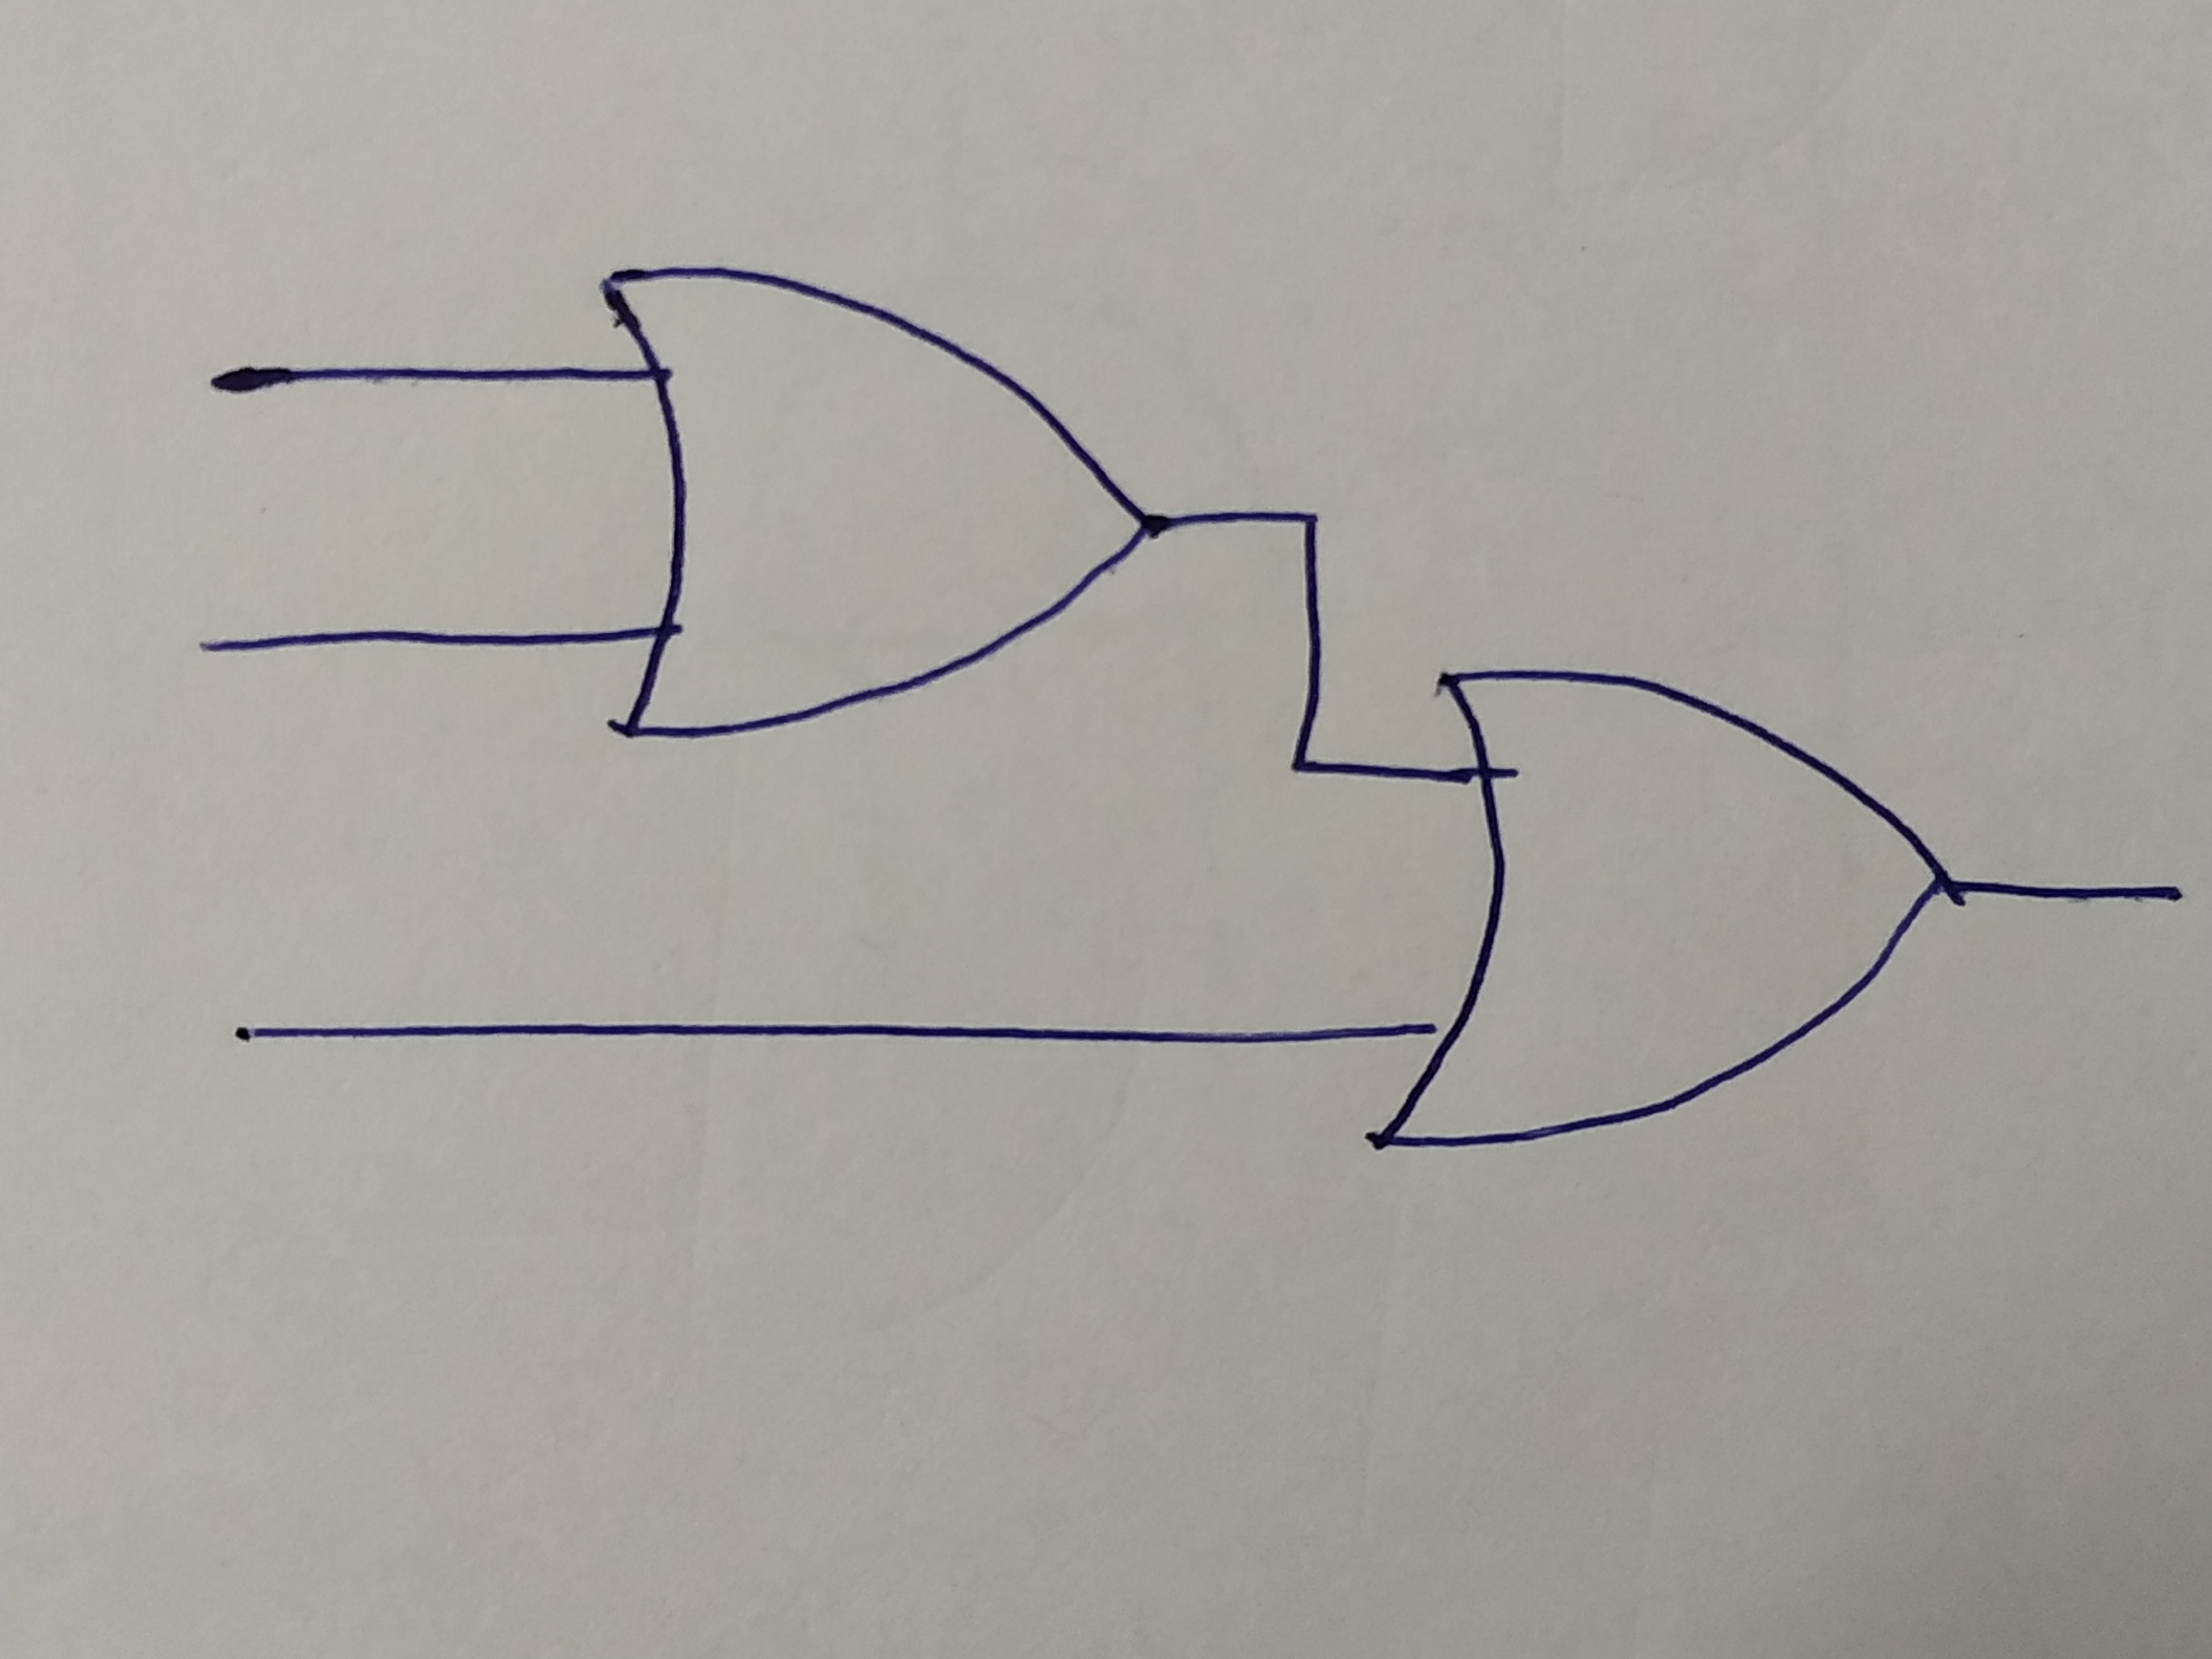or: (1378, 678, 1942, 1152), (601, 270, 1146, 744)
